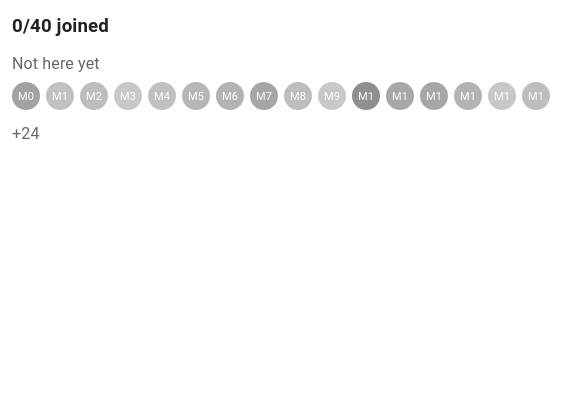
LobbyView › names at most twelve of the people past the avatars, then counts the rest
This screenshot has width=567, height=400.
Hover over the text named "24 more" at (26, 134), box left=12, top=122, right=40, bottom=146
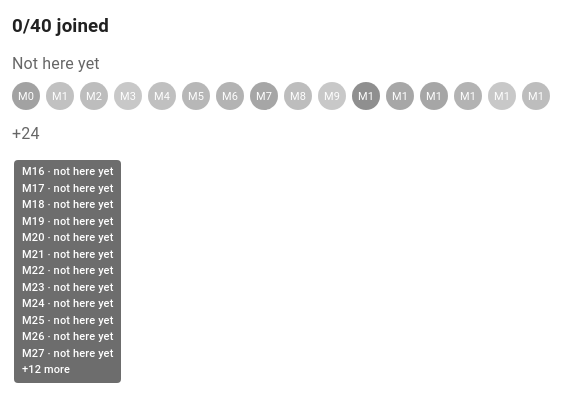
Now the tooltip shows "M27 · not here yet", box left=22, top=165, right=114, bottom=376
Now the tooltip shows "+12 more", box left=22, top=165, right=114, bottom=376
